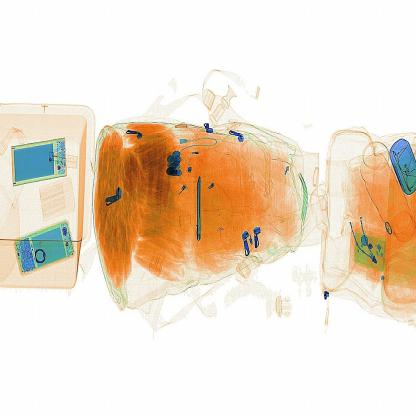pliers: (186, 168, 210, 246)
